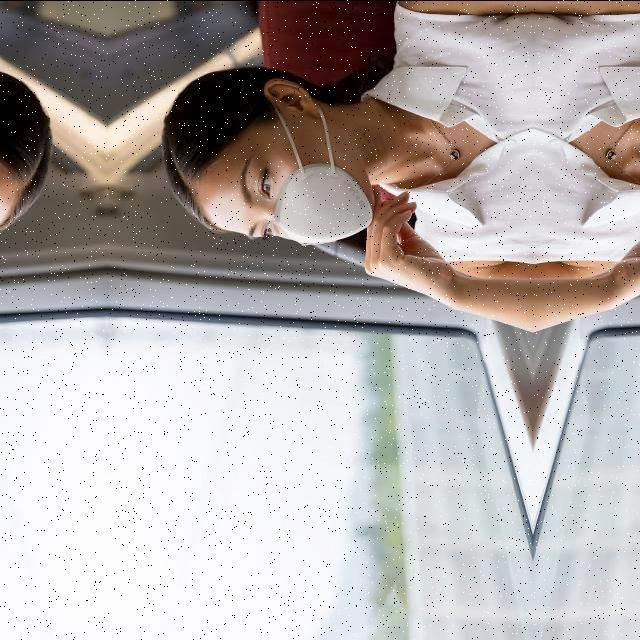mask: (282, 169, 362, 239)
no_apron: (360, 160, 430, 290)
no_gloves: (172, 78, 252, 210)
